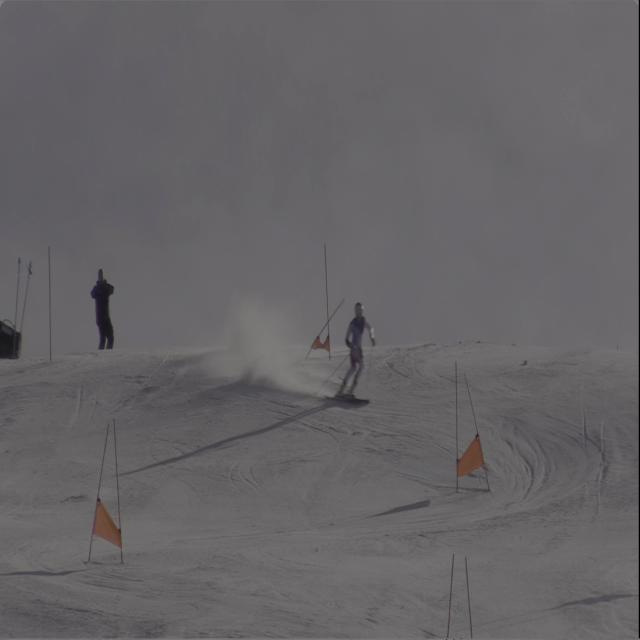gate: (76, 414, 114, 570), (465, 365, 492, 502), (442, 356, 464, 518), (108, 427, 130, 564)
